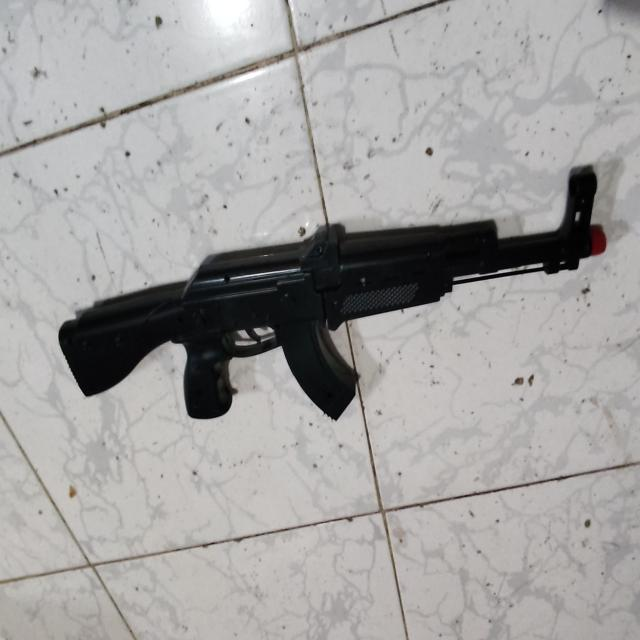rifle: (57, 158, 618, 436)
